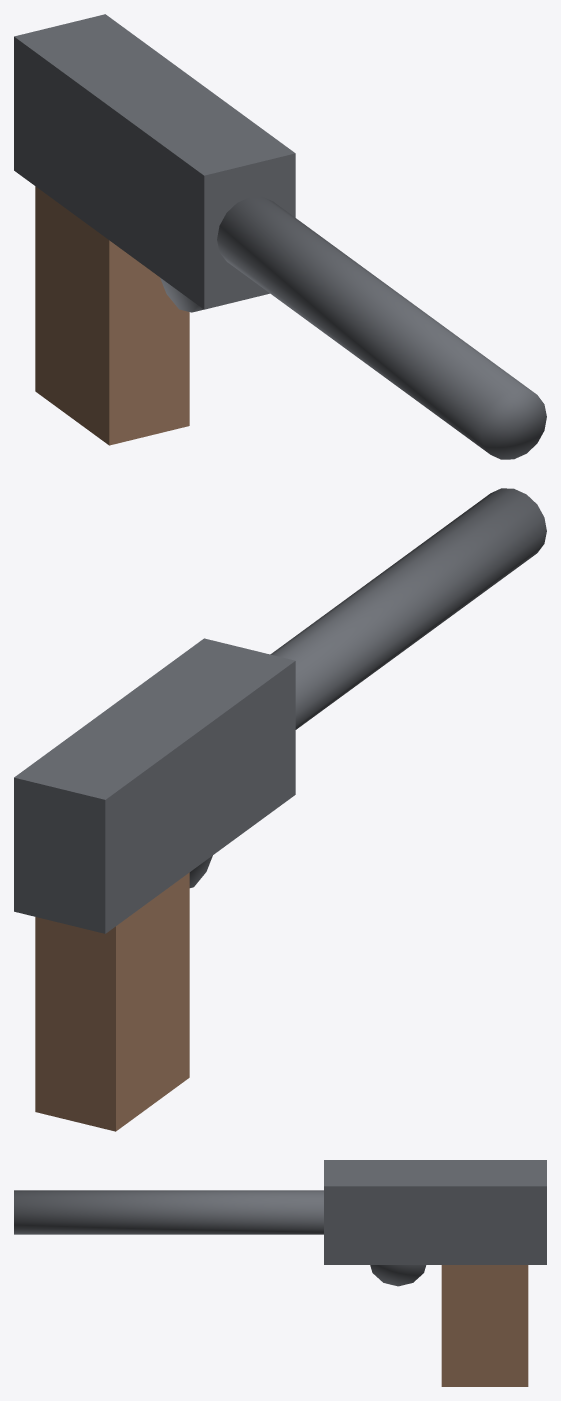
The model's file is eef0ed0d-4c2b-475e-8fe4-3dab48413f88.glb.
3 views of the same model, one above another, from view 1: azimuth 30°, elevation 25°; view 2: azimuth 150°, elevation 25°; view 3: azimuth 270°, elevation 25° (orthographic). The views are drawn at different scales.
Visible parts, largest first — view 1: Generated3DMesh; view 2: Generated3DMesh; view 3: Generated3DMesh.
Part boxes in pixels (bbox=[...]): Generated3DMesh: bbox=[14, 14, 546, 459]; Generated3DMesh: bbox=[14, 488, 546, 1131]; Generated3DMesh: bbox=[14, 1160, 546, 1386].
Bounding box in the file's own units: 0.25 × 0.9 × 2.15.
